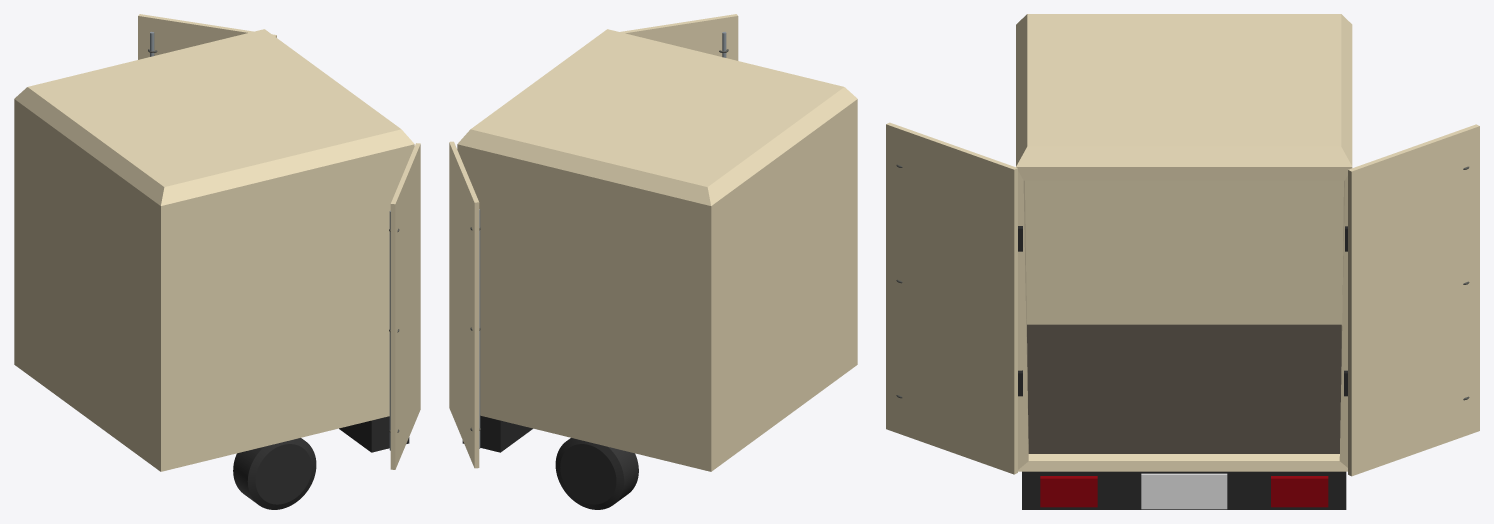
File: truckRyulMade15.fbx
The picture shows the model from 3 angles, left to right: view 1: azimuth 30°, elevation 25°; view 2: azimuth 150°, elevation 25°; view 3: azimuth 270°, elevation 25°; orthographic projection. The views are drawn at different scales.
Parts seen in each view (by area): view 1: truckStorage, LeftDoor, wheel, RightDoor, Lamphead, doorHand; view 2: truckStorage, RightDoor, wheel.001, LeftDoor, Lamphead, doorHand.002; view 3: truckStorage, RightDoor, LeftDoor, Lamphead, numberZone, BackHeadLight, BackHeadLight.001.
Part boxes in pixels (bbox=[...]): truckStorage: bbox=[14, 29, 414, 471]; LeftDoor: bbox=[390, 143, 420, 469]; wheel: bbox=[233, 438, 316, 509]; RightDoor: bbox=[138, 14, 276, 59]; Lamphead: bbox=[339, 416, 409, 452]; doorHand: bbox=[389, 210, 390, 450]; truckStorage: bbox=[457, 29, 857, 471]; RightDoor: bbox=[449, 141, 479, 468]; wheel.001: bbox=[555, 438, 638, 509]; LeftDoor: bbox=[620, 14, 738, 60]; Lamphead: bbox=[462, 415, 532, 452]; doorHand.002: bbox=[479, 209, 480, 448]; truckStorage: bbox=[1016, 14, 1352, 471]; RightDoor: bbox=[1348, 124, 1479, 476]; LeftDoor: bbox=[886, 122, 1017, 474]; Lamphead: bbox=[1022, 471, 1346, 509]; numberZone: bbox=[1141, 473, 1227, 509]; BackHeadLight: bbox=[1040, 476, 1097, 507]; BackHeadLight.001: bbox=[1271, 476, 1328, 507].
Bounding box in the file's own units: 207 × 264 × 353.
